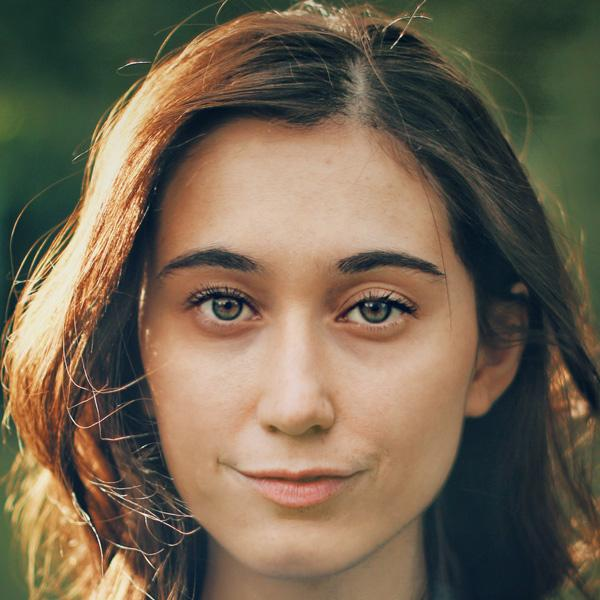Eyes: (321, 282, 426, 345), (178, 281, 269, 341)
